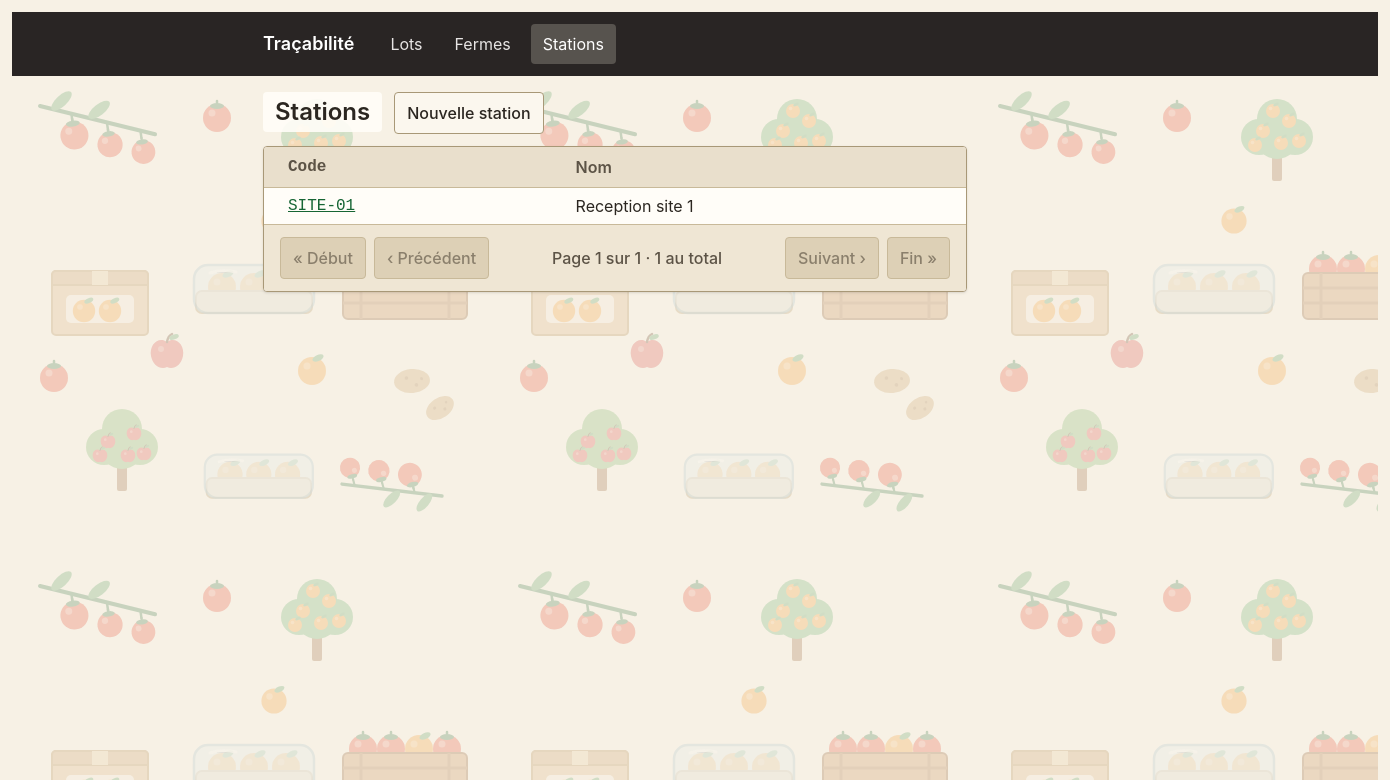
StationPage › opens from the list of stations
Click the link "SITE-01" at (322, 206), box [288,197,355,215]
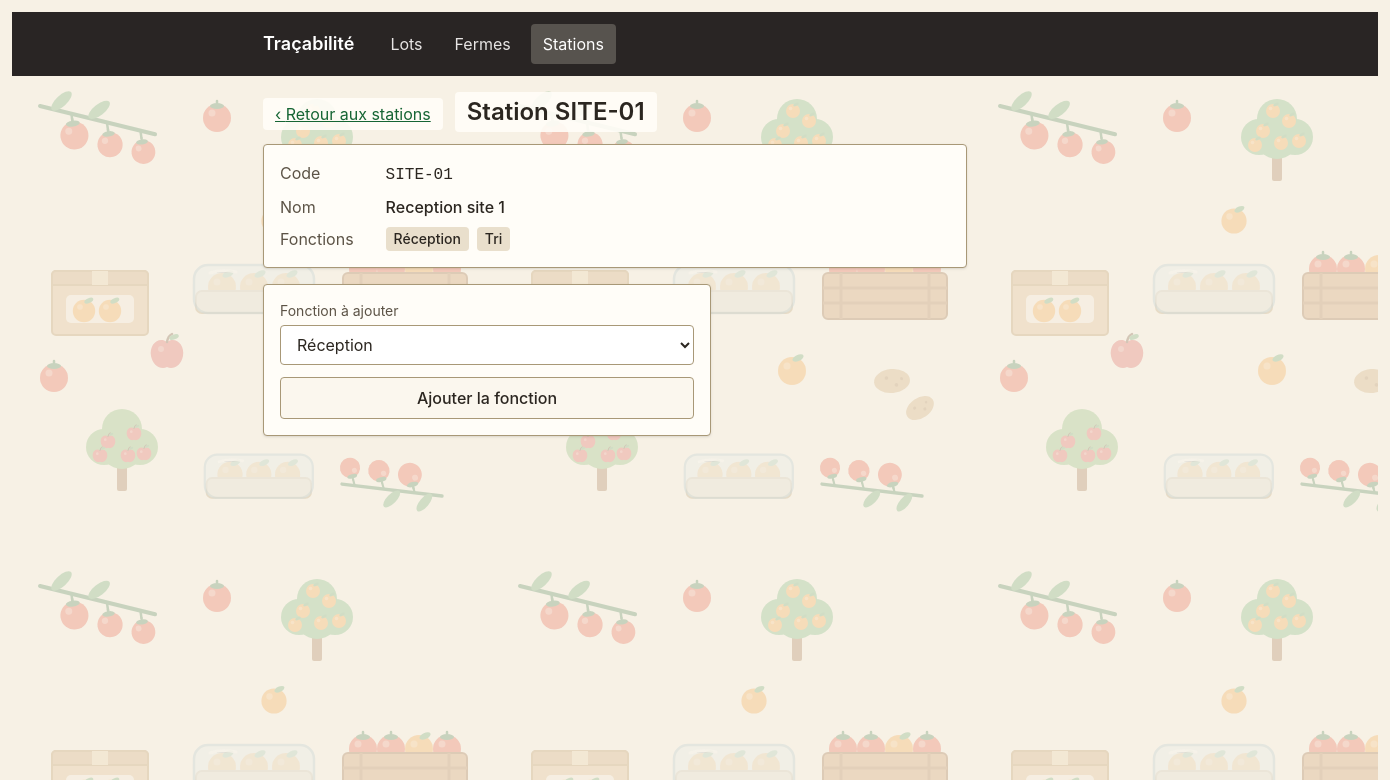
Now the heading "Station SITE-01" is shown, box [455,92,657,132]
Now the text "Réception" is shown, box [386,227,469,251]
